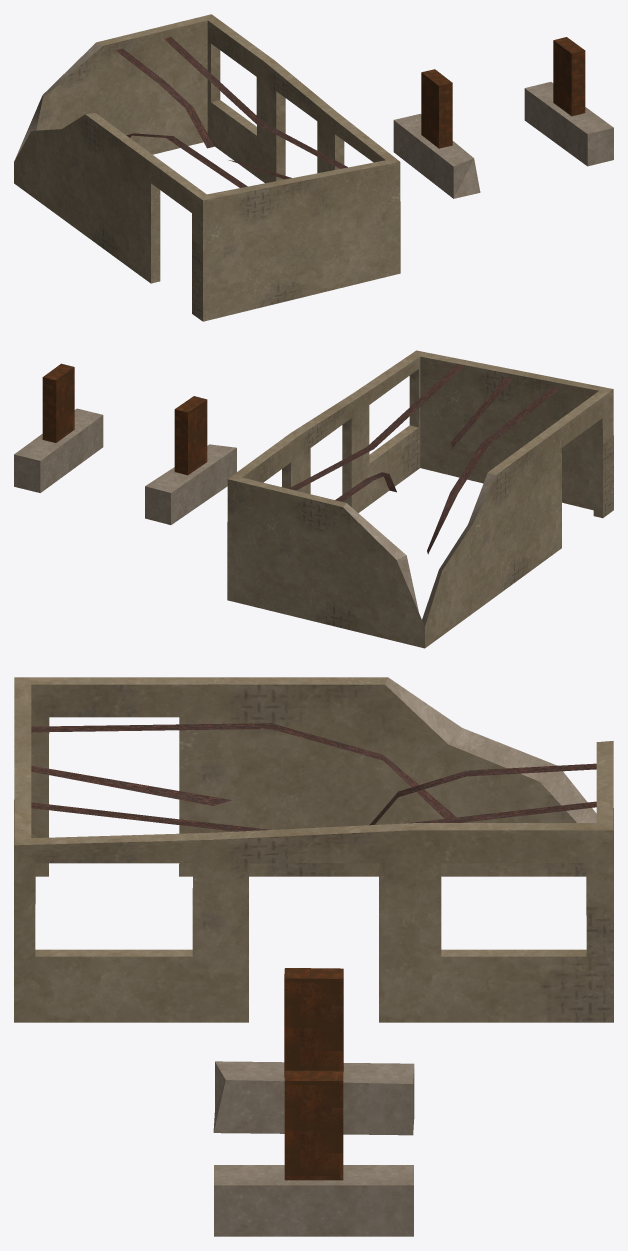
The model's file is SM_GasStation.FBX.
The picture shows the model from 3 angles, top to bottom: view 1: azimuth 30°, elevation 25°; view 2: azimuth 150°, elevation 25°; view 3: azimuth 270°, elevation 25°; orthographic projection. The views are drawn at different scales.
Visible parts, largest first — view 1: SM_GasStation; view 2: SM_GasStation; view 3: SM_GasStation.
Boxes of the visible parts, <box> form: SM_GasStation: <box>14,14,613,321</box>; SM_GasStation: <box>14,350,613,648</box>; SM_GasStation: <box>14,677,613,1236</box>.
Size of the model in its own units: 586 by 405 by 143.
